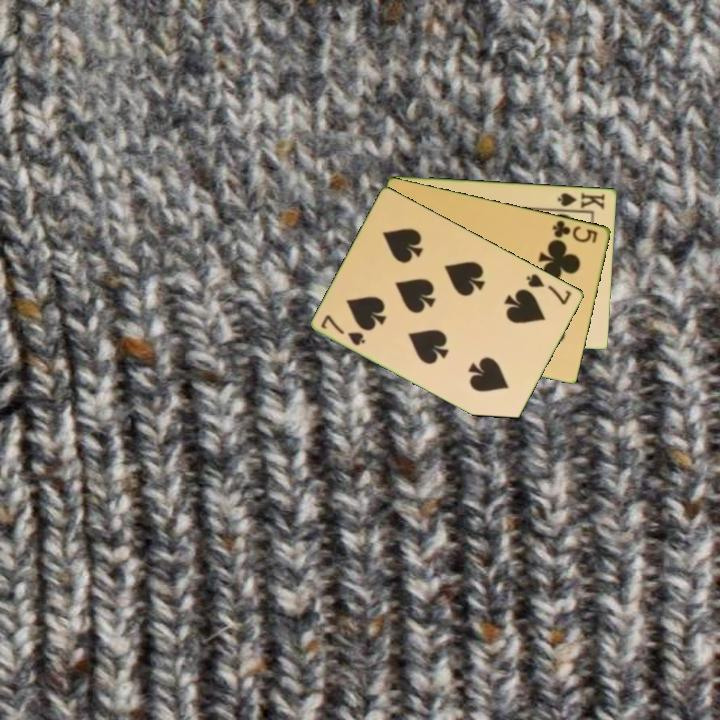5c: (549, 216, 601, 245)
7s: (523, 270, 575, 308), (317, 311, 369, 349)
Ks: (554, 189, 608, 213)
